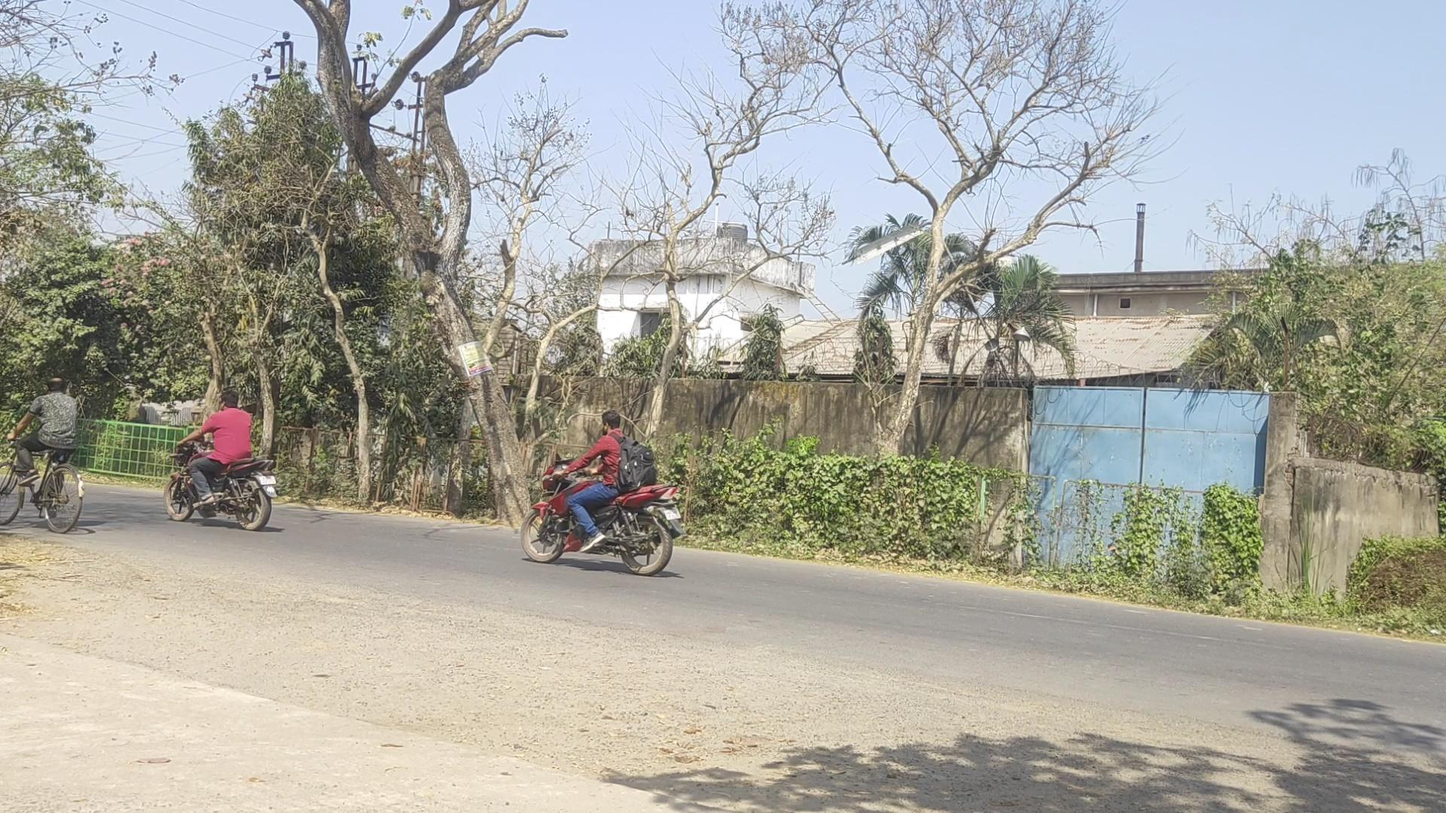bike: (520, 410, 682, 576), (163, 390, 278, 531), (1, 376, 84, 534)
